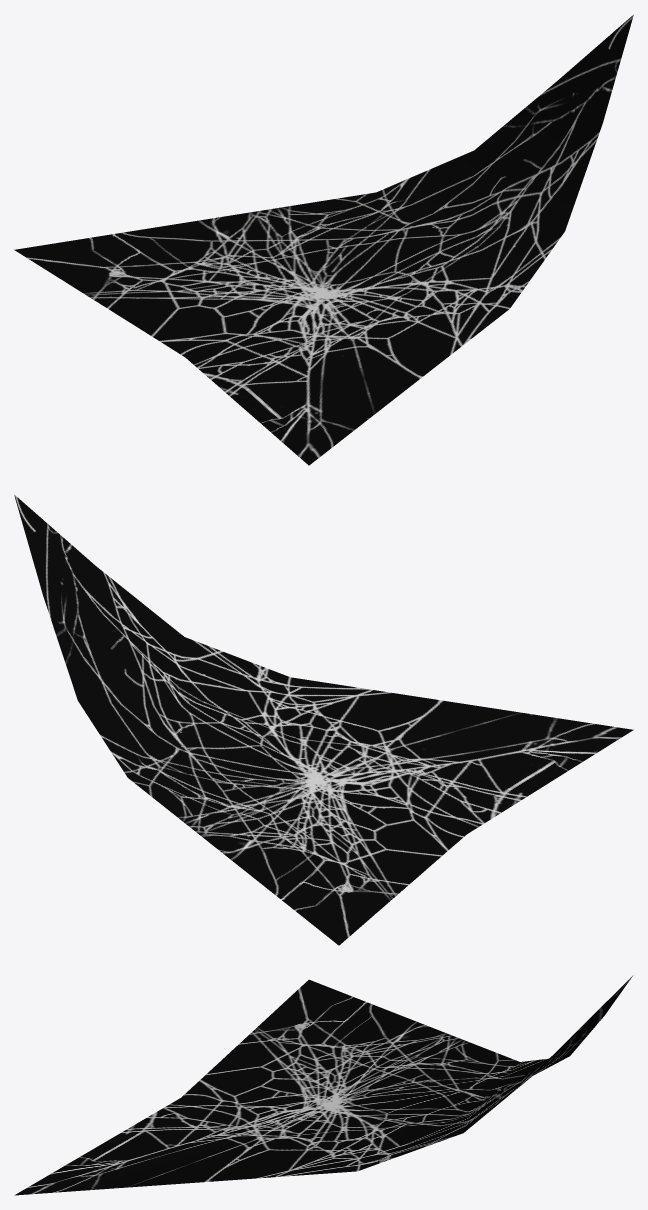
Rendered from Li_Web_spider_02.FBX.
The picture shows the model from 3 angles, top to bottom: view 1: azimuth 30°, elevation 25°; view 2: azimuth 150°, elevation 25°; view 3: azimuth 330°, elevation 25°; orthographic projection.
Visible parts, largest first — view 1: LI_Web_02; view 2: LI_Web_02; view 3: LI_Web_02.
Boxes of the visible parts, x1,y1,x2,y2 form: LI_Web_02: [14, 14, 633, 465]; LI_Web_02: [14, 494, 633, 945]; LI_Web_02: [14, 975, 633, 1195].
Bounding box in the file's own units: 53.77 × 25.2 × 58.14.
Materials: 1 (1 with a texture image).
